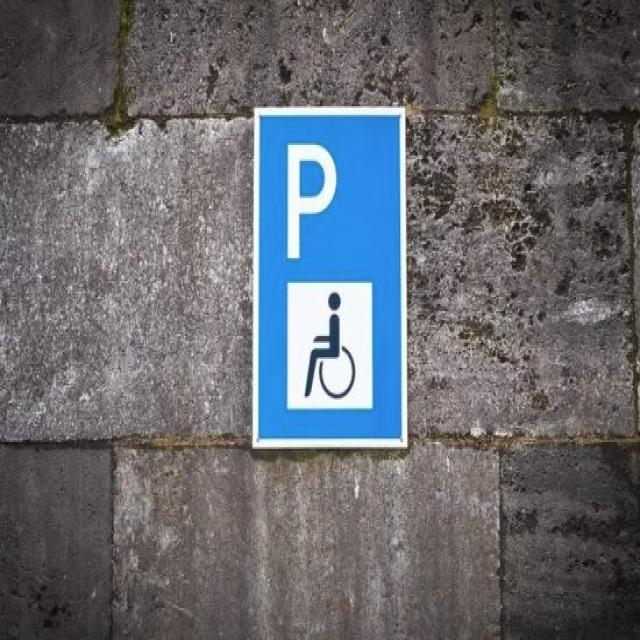symbol_of_access: (288, 283, 368, 406)
